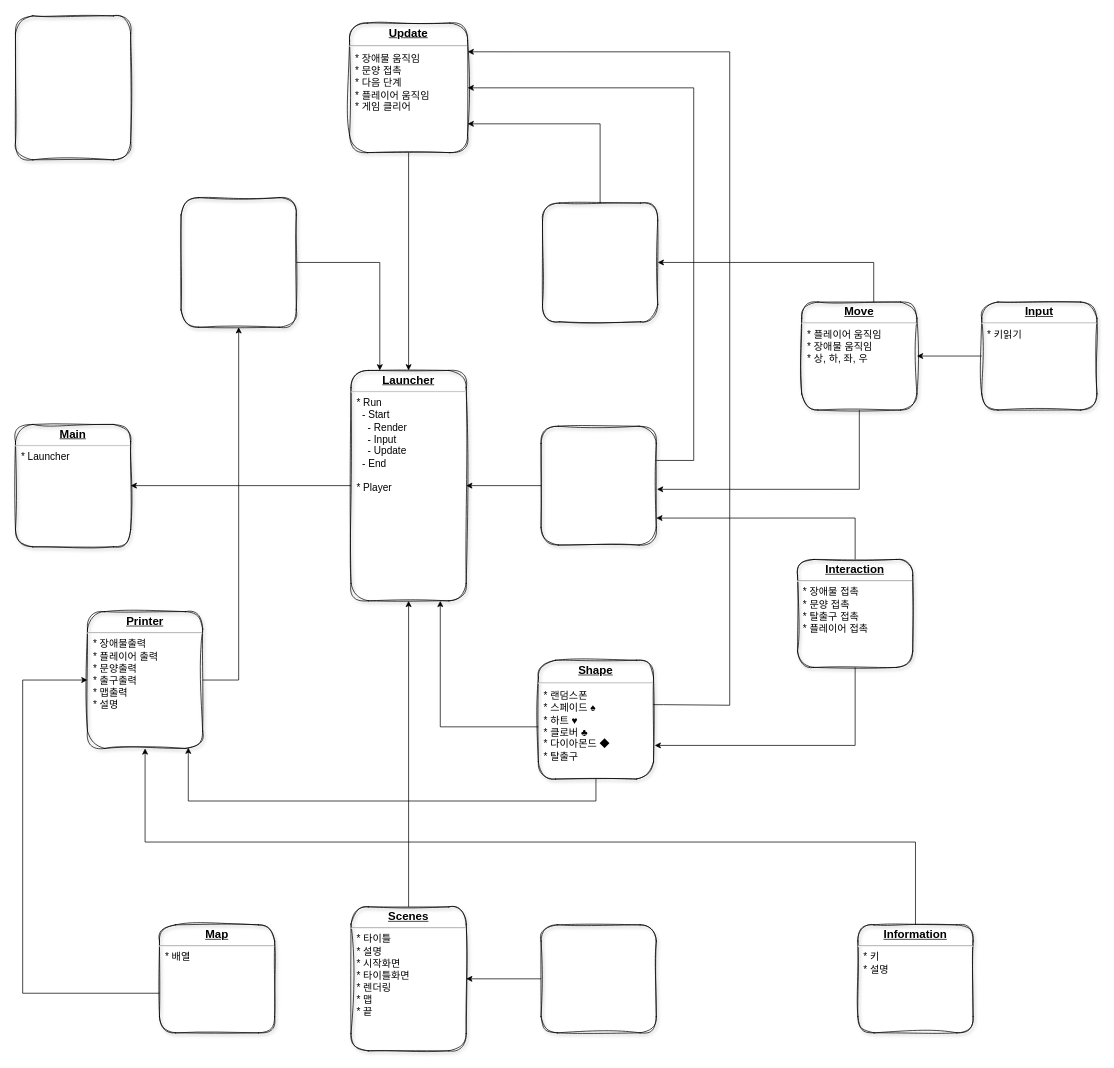
The diagram is 1114 pixels wide and 1068 high, and some of its shapes have lost their labels. The shapes that lost their labels are listed below. From the top down, each one's centre as x and y in pixels, then its label:
(73,88): GameData * 작동 * 맵 * 키읽기 * 플레이어 위치 * 문양 위치 * 탈출구 위치 * 장애물 위치
(239,263): Render * 화면클리어 * 장애물출력 * 문양출력 * 플레이어출력 * 맵출력 * 출구출력
(600,263): Obstacles * 가로버전 * 세로버전 * 움직임 * 접촉
(599,486): Player * 랜덤스폰 * 움직임 * 정해진 문양 알파벳 - S, H, C, D
(599,979): Stage * 스테이지1 * 스테이지2 * 스테이지3 * 스테이지4
